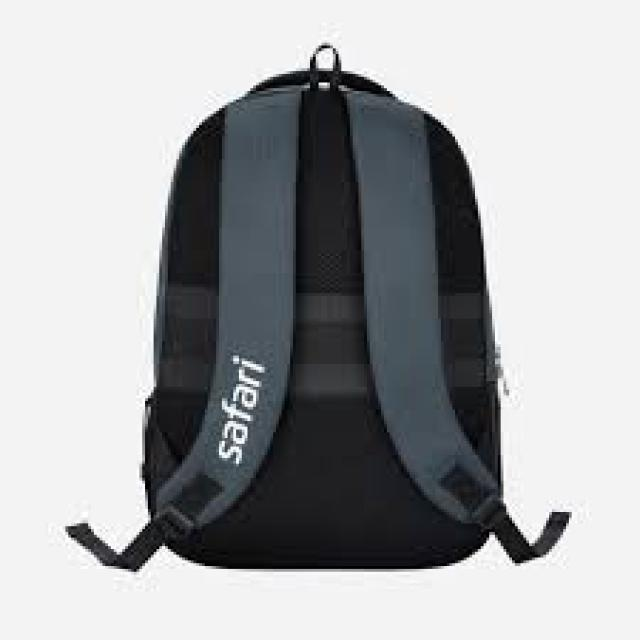backpack: (63, 44, 570, 573)
